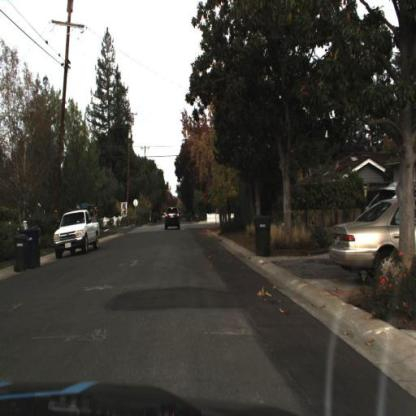car: (330, 197, 416, 286), (51, 201, 102, 261), (48, 206, 102, 262), (164, 205, 183, 235)
